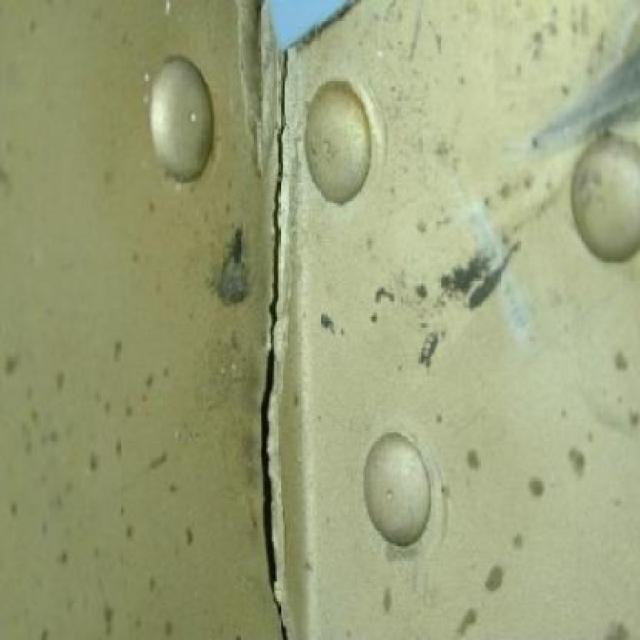crack: (251, 35, 296, 640)
